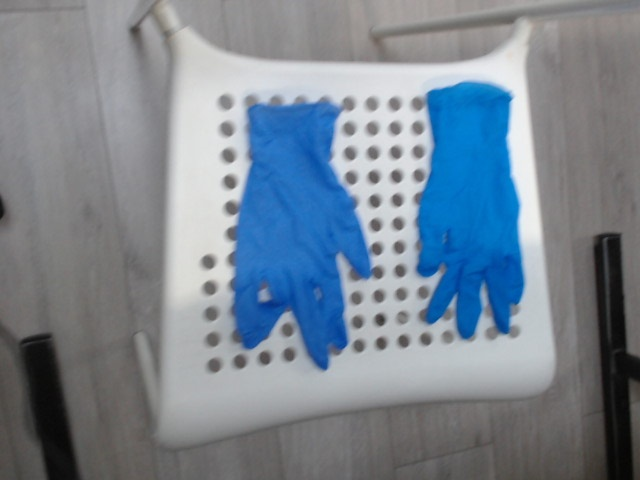medical_glove: (237, 102, 372, 371), (418, 81, 524, 339)
